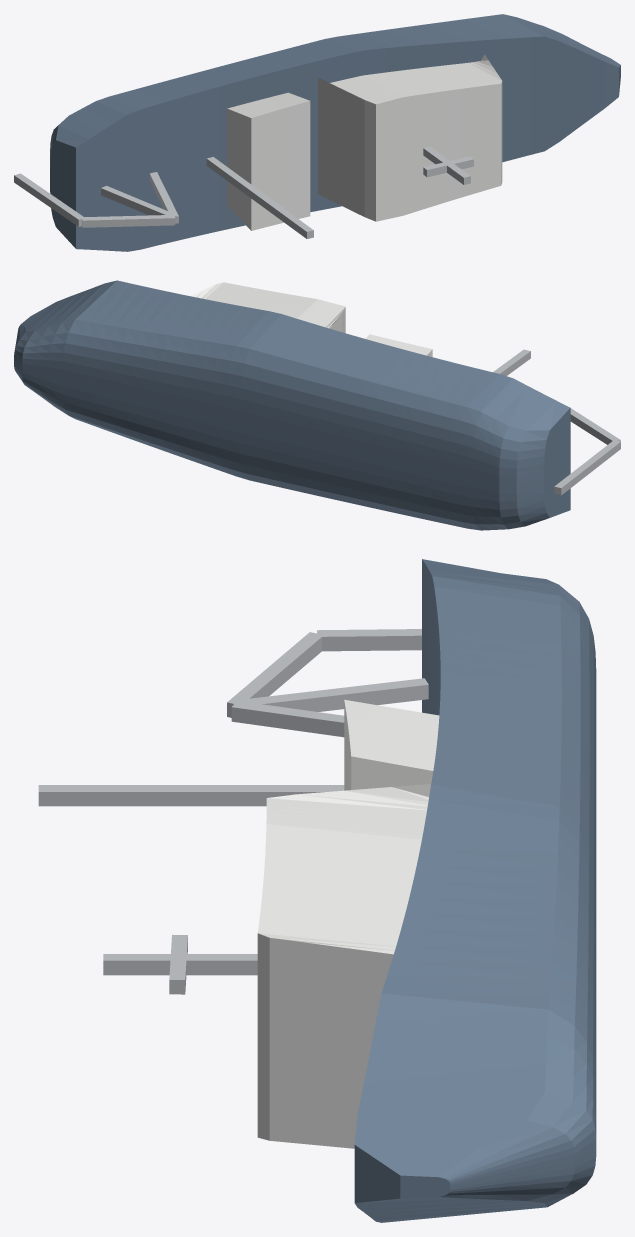
Rendered from mine-clearance-loft-sheered.glb.
3 renders of one model, top to bottom at view 1: azimuth 30°, elevation 25°; view 2: azimuth 150°, elevation 25°; view 3: azimuth 270°, elevation 25°, orthographic. The views are drawn at different scales.
Visible parts, largest first — view 1: mine-clearance-loft-sheered; view 2: mine-clearance-loft-sheered; view 3: mine-clearance-loft-sheered.
Boxes of the visible parts, x1,y1,x2,y2 form: mine-clearance-loft-sheered: (14,14,620,251); mine-clearance-loft-sheered: (14,280,620,530); mine-clearance-loft-sheered: (38,559,596,1222).
Size of the model in its own units: 1.96 by 0.503 by 0.8367.
